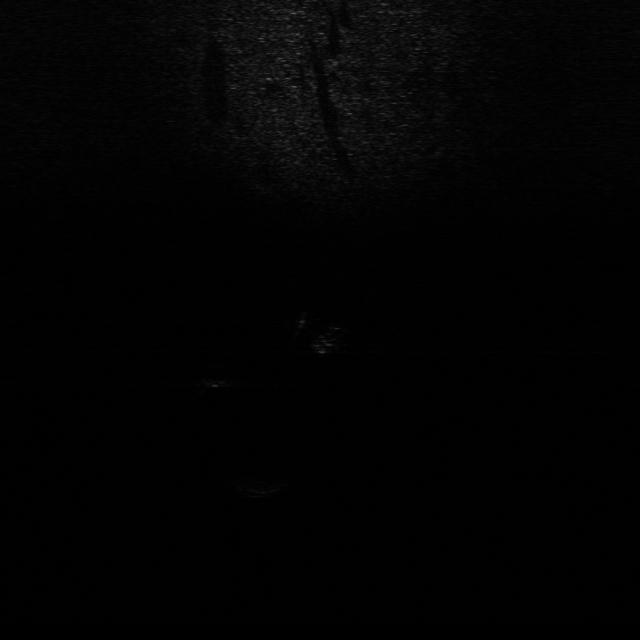ball: (193, 360, 237, 390)
circle cage: (227, 472, 292, 497)
human body: (283, 309, 358, 358)
